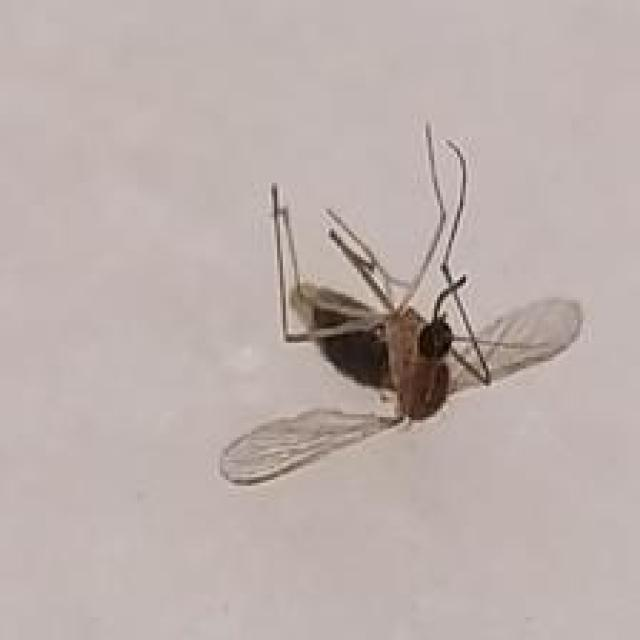Culex: (217, 119, 583, 487)
